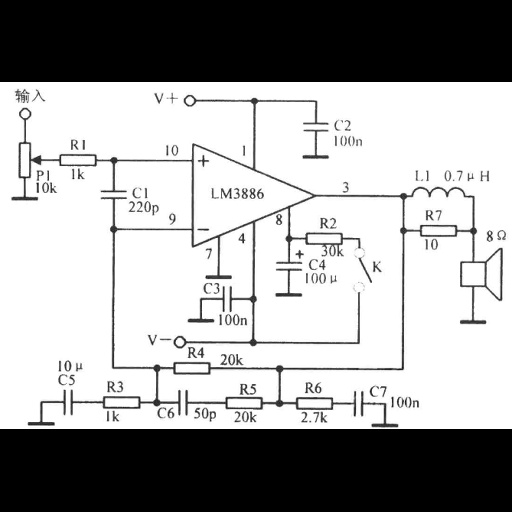amplifier: (186, 142, 316, 247)
capacitor: (174, 384, 191, 417), (60, 387, 77, 418), (98, 186, 128, 203), (300, 118, 330, 135), (220, 282, 236, 313), (351, 387, 365, 419)
firstpolarcapacitor: (272, 249, 304, 275)
firstresistance: (99, 393, 146, 411), (169, 359, 213, 377), (221, 395, 269, 411), (294, 393, 335, 411), (302, 230, 348, 246), (415, 221, 460, 237), (56, 153, 103, 167)
inductor: (403, 182, 473, 204)
loudspeaker: (456, 244, 506, 302)
